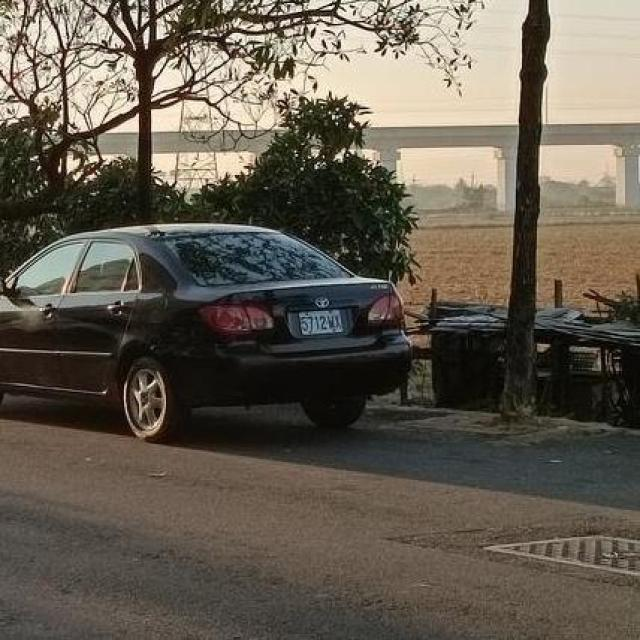W: (292, 304, 347, 336)
